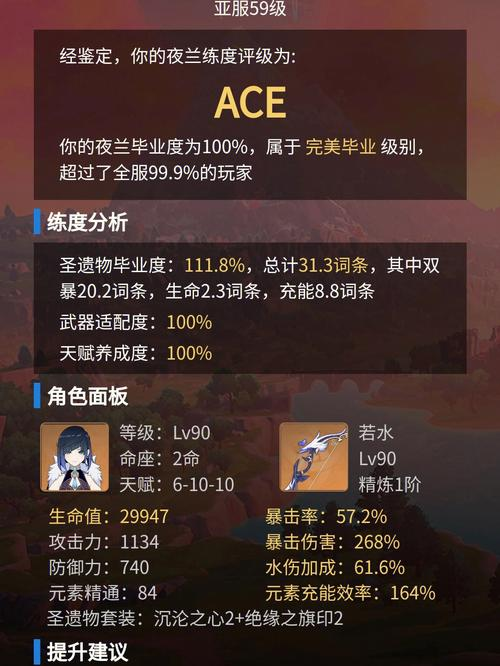夜兰: (45, 426, 99, 492)
